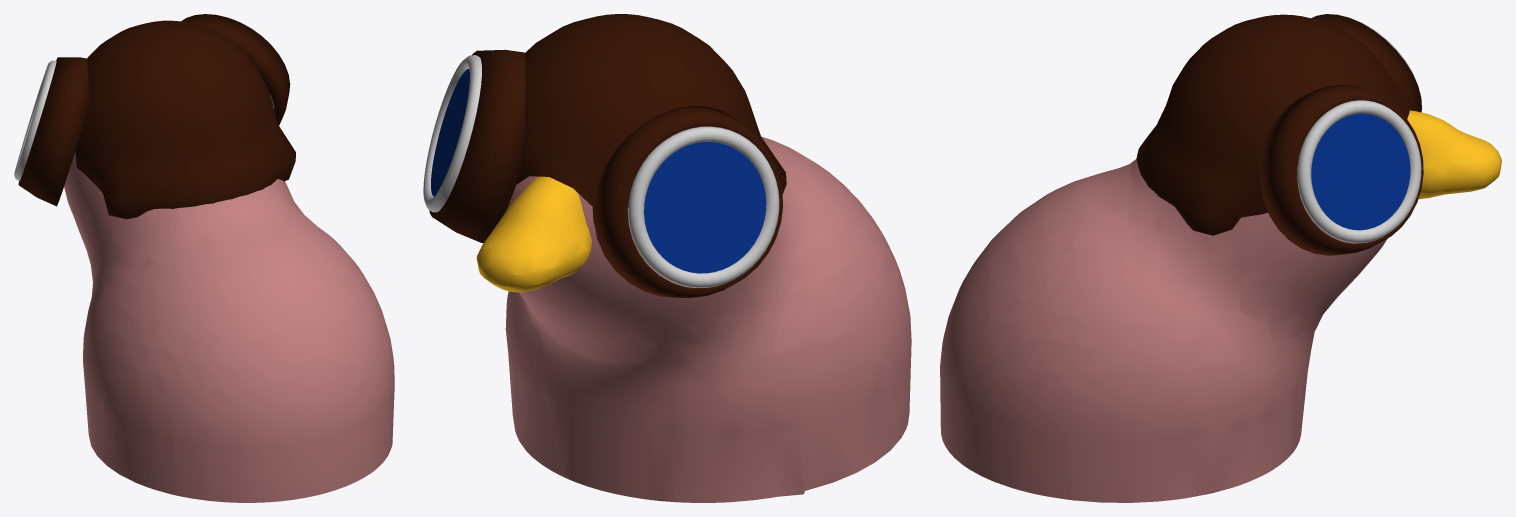
Rendered from chookity.obj.
3 renders of one model, left to right at view 1: azimuth 30°, elevation 25°; view 2: azimuth 150°, elevation 25°; view 3: azimuth 270°, elevation 25°, orthographic. The views are drawn at different scales.
Visible parts, largest first — view 1: Mball.003, Sphere, Cylinder.003, Cylinder, Torus.001; view 2: Mball.003, Sphere, Cylinder.005, Cylinder, Cylinder.003, Mball.001, Torus.001, Torus, Cylinder.002; view 3: Mball.003, Sphere, Cylinder.002, Cylinder, Mball.001, Torus, Cylinder.003.
Boxes of the visible parts, x1,y1,x2,y2 form: Mball.003: (64, 152, 394, 502); Sphere: (75, 20, 295, 219); Cylinder.003: (18, 57, 90, 206); Cylinder: (181, 14, 290, 125); Torus.001: (14, 60, 56, 180); Mball.003: (505, 136, 911, 502); Sphere: (516, 14, 786, 209); Cylinder.005: (644, 142, 766, 273); Cylinder: (429, 49, 526, 243); Cylinder.003: (592, 106, 783, 297); Mball.001: (476, 176, 591, 292); Torus.001: (628, 126, 779, 287); Torus: (423, 55, 481, 212); Cylinder.002: (431, 69, 469, 196); Mball.003: (940, 159, 1387, 502); Sphere: (1136, 14, 1409, 235); Cylinder.002: (1311, 113, 1410, 230); Cylinder: (1259, 85, 1423, 255); Mball.001: (1407, 110, 1501, 199); Torus: (1297, 100, 1421, 243); Cylinder.003: (1311, 14, 1421, 112).
Bounding box in the file's own units: 2.06 × 2.62 × 3.27.
